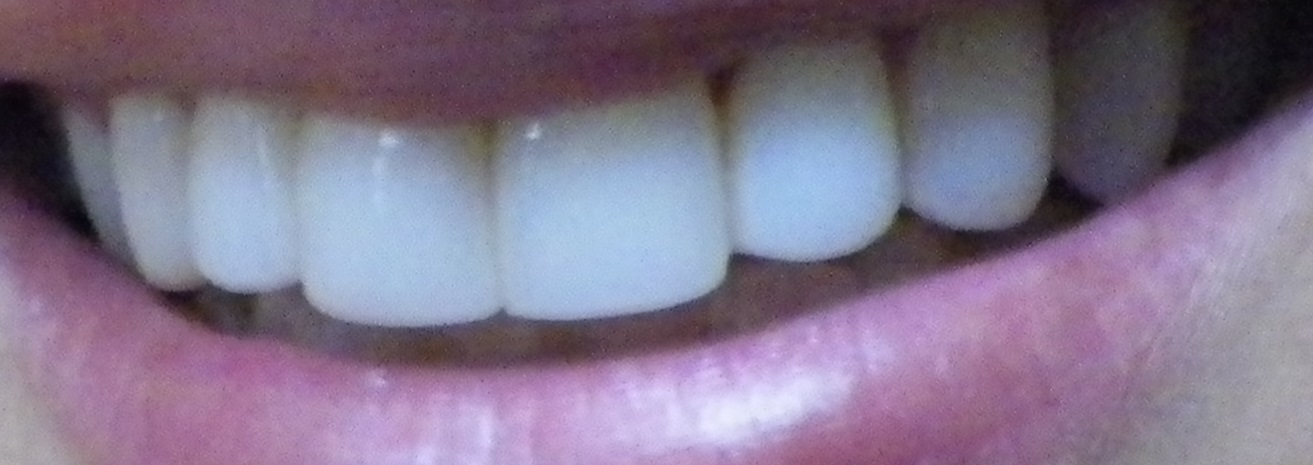boca: (52, 42, 1251, 368)
